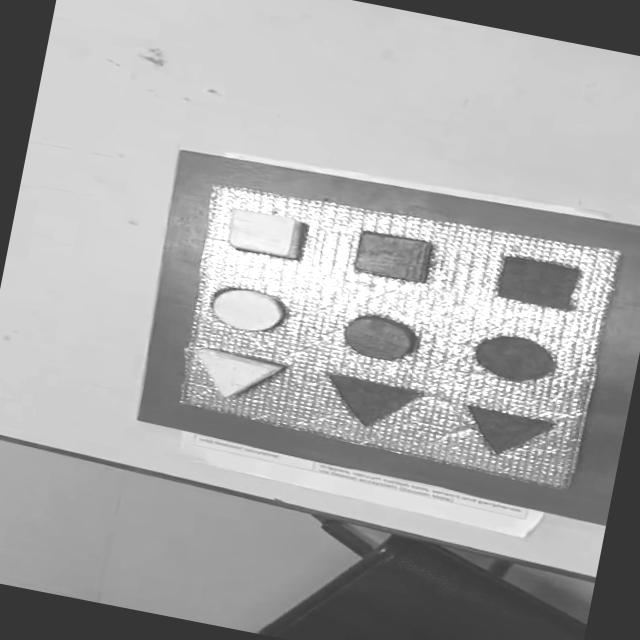mtcircle: (468, 329, 562, 390)
mtcube: (491, 252, 584, 314)
mttriangle: (314, 371, 428, 438), (453, 401, 559, 467)
rcircle: (339, 312, 419, 366)
rcube: (352, 228, 438, 286)
wb: (164, 174, 624, 493)
ycircle: (206, 282, 290, 340)
ycube: (221, 205, 310, 263)
ytriangle: (183, 344, 288, 410)
